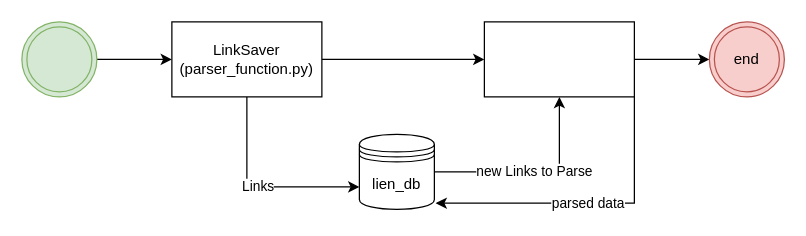
Image size: 806x236. Some labels were removed from this diagram. Each missing label, with the centre of its shape:
"LinkParser (link_parser.py)" belongs at [558,59].
"start" belongs at [59,59].
